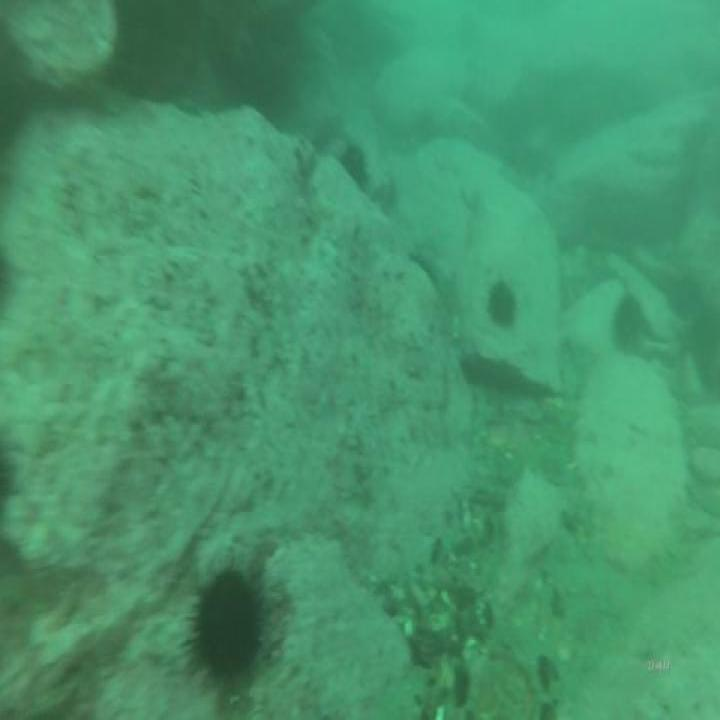echinus: (182, 550, 273, 700), (608, 288, 644, 359), (336, 139, 371, 199), (484, 274, 519, 330), (666, 270, 701, 320)
